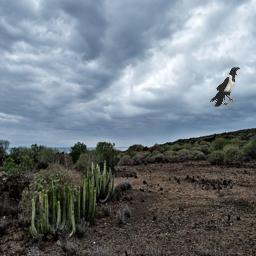Crow: (210, 67, 240, 107)
